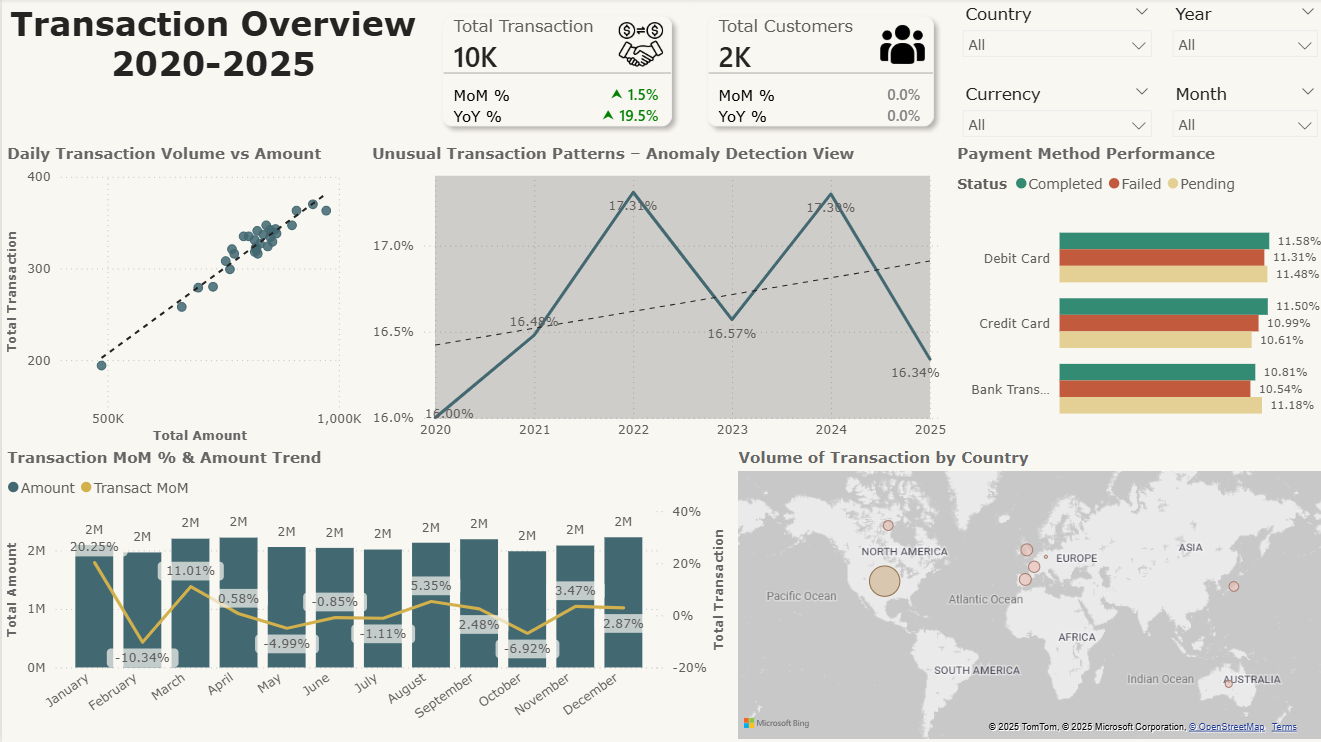

Layout of this report page (visuals, bound fields, positions):
{"tool":"powerbi","page":{"name":"Dashboard","canvas":[1280,720],"ordinal":0},"visuals":[{"type":"scatterChart","title":"Daily Transaction Volume vs Amount","fields":{"Y":["Finance.Total Transaction"],"X":["Sum(Finance.Amount)"],"Category":["Date.Date.Variation.Date Hierarchy.Day"]},"box":[0,141.2,352.3,293.2],"z":0},{"type":"clusteredBarChart","title":"Payment Method Performance","fields":{"Category":["Finance.PaymentMethod"],"Y":["Divide(CountNonNull(Finance.TransactionID), ScopedEval(CountNonNull(Finance.TransactionID), []))"],"Series":["Finance.Status"]},"box":[916.6,141,363.4,292.9],"z":1000},{"type":"lineStackedColumnComboChart","title":"Transaction MoM % & Amount Trend","fields":{"Category":["Date.Date.Variation.Date Hierarchy.Year","Date.Date.Variation.Date Hierarchy.Quarter","Date.Date.Variation.Date Hierarchy.Month","Date.Date.Variation.Date Hierarchy.Day"],"Y2":["Finance.Transact MoM"],"Y":["Sum(Finance.Amount)"]},"box":[0,434.3,705.8,284.7],"z":2000},{"type":"lineChart","title":"Unusual Transaction Patterns – Anomaly Detection View","fields":{"Category":["Date.Date.Variation.Date Hierarchy.Year","Date.Date.Variation.Date Hierarchy.Quarter","Date.Date.Variation.Date Hierarchy.Month","Date.Date.Variation.Date Hierarchy.Day"],"Y":["Finance.Total Transaction"]},"box":[352.3,141.2,564.6,293.2],"z":3000},{"type":"slicer","fields":{"Values":["Date.Year"]},"box":[1119.8,0,160.2,77.6],"z":4000},{"type":"cardVisual","fields":{"Data":["Finance.Total Transaction"]},"box":[408.1,0,256.3,141],"z":5000},{"type":"textbox","box":[0,0,407.8,101.3],"z":6000},{"type":"slicer","fields":{"Values":["Finance.Currency"]},"box":[917.1,77.6,202.7,63.8],"z":7000},{"type":"cardVisual","fields":{"Data":["Customer.Customers Joined"]},"box":[663.5,0,253.4,141.2],"z":8000},{"type":"slicer","fields":{"Values":["Customer.Country"]},"box":[917.1,0,202.7,75.1],"z":9000},{"type":"map","title":"Volume of Transaction by Country","fields":{"Category":["Customer.Country"],"Size":["Finance.Total Transaction"]},"box":[705.7,434.2,574.3,285.3],"z":10000},{"type":"slicer","fields":{"Values":["Date.Month"]},"box":[1119.8,77.6,160.2,63.8],"z":11000}]}

Visuals, with their boxes in screenshot pixels (x1, y1, x2, y2), scaled from the page's 1280x720 canvas onto the 1321x742 screenshot:
"Daily Transaction Volume vs Amount" scatterChart: 0,146,364,448
"Payment Method Performance" clusteredBarChart: 946,145,1320,447
"Transaction MoM % & Amount Trend" lineStackedColumnComboChart: 0,448,728,741
"Unusual Transaction Patterns – Anomaly Detection View" lineChart: 364,146,946,448
slicer - Date.Year: 1156,0,1320,80
cardVisual - Finance.Total Transaction: 421,0,686,145
textbox: 0,0,421,104
slicer - Finance.Currency: 946,80,1156,146
cardVisual - Customer.Customers Joined: 685,0,946,146
slicer - Customer.Country: 946,0,1156,77
"Volume of Transaction by Country" map: 728,447,1320,741
slicer - Date.Month: 1156,80,1320,146
